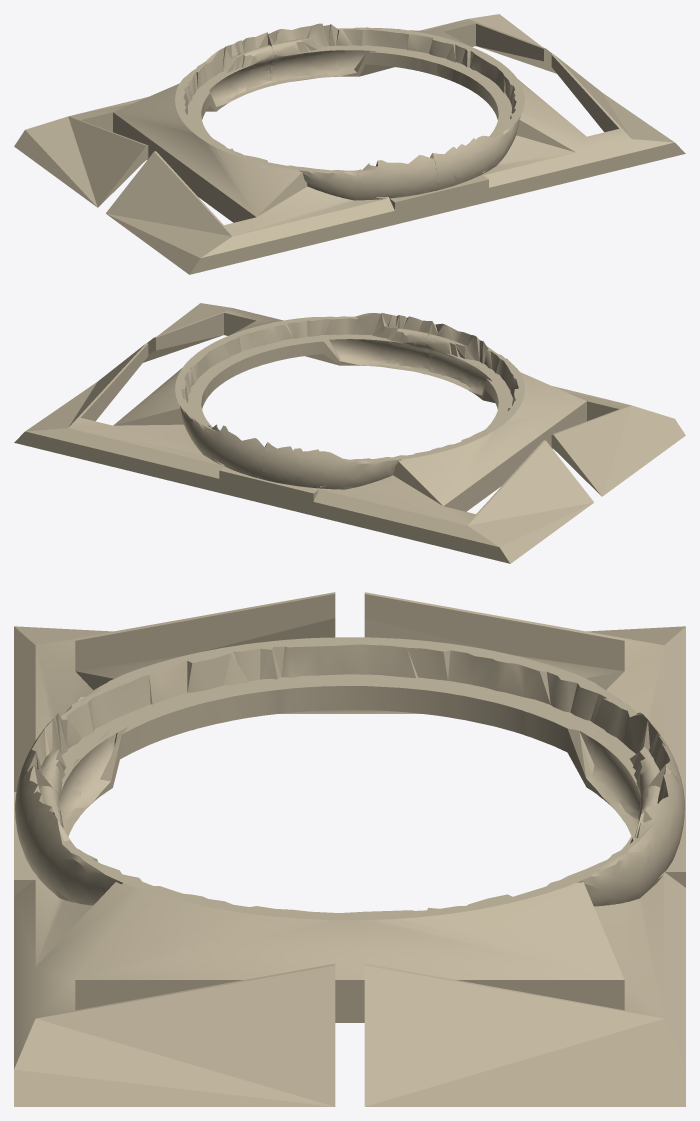
File: ridge-airtag.glb
The picture shows the model from 3 angles, top to bottom: view 1: azimuth 30°, elevation 25°; view 2: azimuth 150°, elevation 25°; view 3: azimuth 270°, elevation 25°; orthographic projection. The views are drawn at different scales.
Visible parts, largest first — view 1: Ridge_Airtag_Mod_V5p_Flat_READY_ExtraLoose; view 2: Ridge_Airtag_Mod_V5p_Flat_READY_ExtraLoose; view 3: Ridge_Airtag_Mod_V5p_Flat_READY_ExtraLoose.
Part boxes in pixels (left/top/right/bottom): Ridge_Airtag_Mod_V5p_Flat_READY_ExtraLoose: left=14, top=14, right=685, bottom=274; Ridge_Airtag_Mod_V5p_Flat_READY_ExtraLoose: left=14, top=303, right=685, bottom=563; Ridge_Airtag_Mod_V5p_Flat_READY_ExtraLoose: left=14, top=592, right=685, bottom=1106.
Bounding box in the file's own units: 0.058 × 0.0065 × 0.0355.
